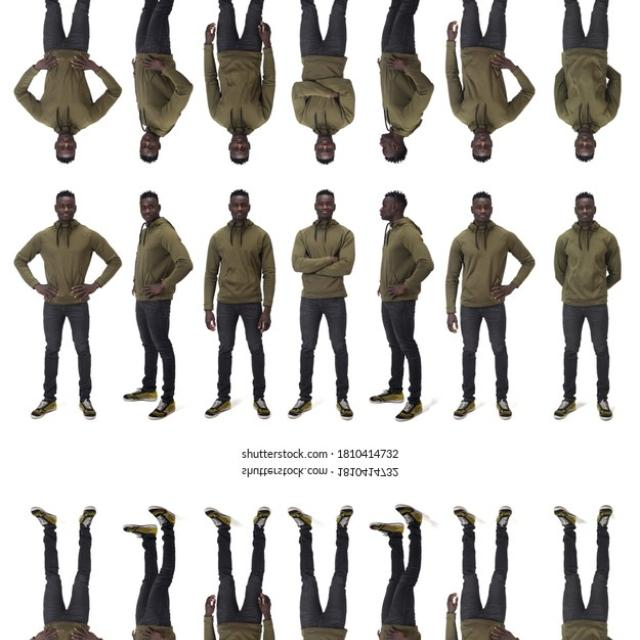person: (10, 187, 121, 401), (448, 192, 530, 452), (546, 182, 628, 426), (10, 0, 121, 165), (358, 185, 436, 419), (201, 184, 275, 430), (194, 181, 284, 339), (194, 13, 284, 171), (546, 0, 628, 169), (448, 472, 530, 640), (448, 0, 530, 160), (358, 0, 436, 167), (10, 524, 121, 640), (201, 0, 275, 168), (546, 500, 628, 640), (201, 494, 275, 640), (440, 46, 530, 166), (440, 187, 530, 306), (358, 506, 436, 640), (544, 179, 628, 293), (544, 59, 628, 173), (358, 190, 430, 318), (358, 34, 430, 162), (120, 31, 184, 162), (120, 190, 184, 320), (294, 49, 356, 164), (294, 188, 356, 302), (194, 586, 284, 640), (31, 184, 97, 242), (31, 110, 97, 168), (554, 111, 610, 160), (554, 192, 610, 240), (126, 190, 172, 246), (126, 106, 172, 162), (357, 607, 430, 640), (120, 604, 184, 640), (372, 188, 412, 240), (372, 112, 412, 164), (439, 619, 530, 640), (294, 622, 355, 640), (544, 633, 628, 640)
